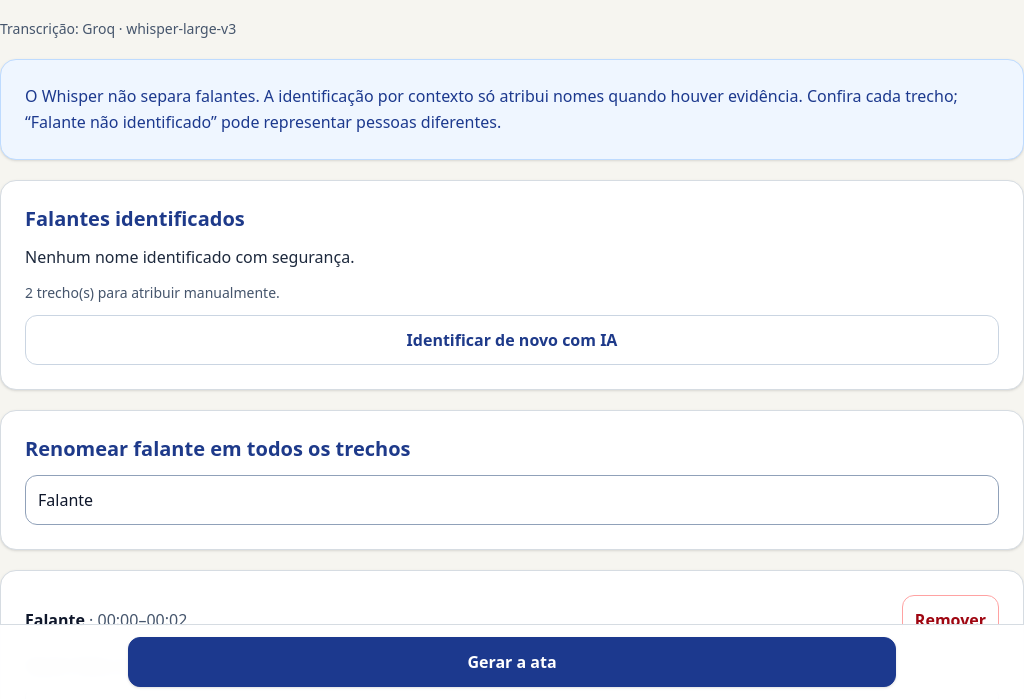
Scenario: identifica de novo pela função integrada, salva os nomes e mantém incerteza explícita
Click the button "Identificar de novo com IA".
click(512, 340)  # box [25,315,999,365]
(page scrolled)
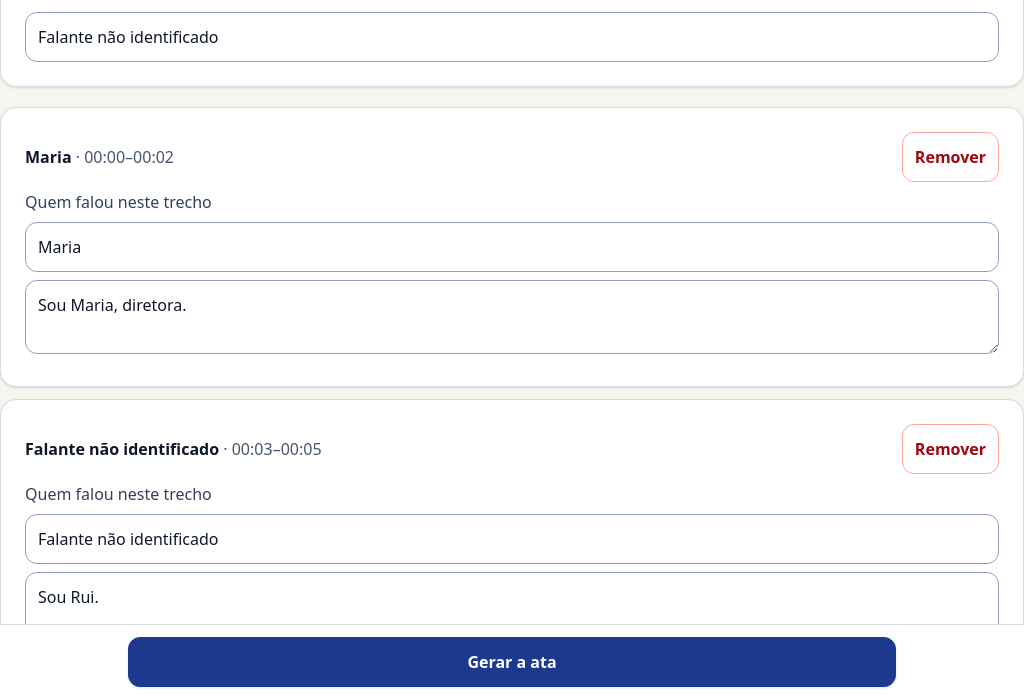
Expected: the field named "Falante do trecho 1" holds "Maria", [25,222,999,272]
Expected: the field named "Falante do trecho 2" holds "Falante não identificado", [25,514,999,564]
